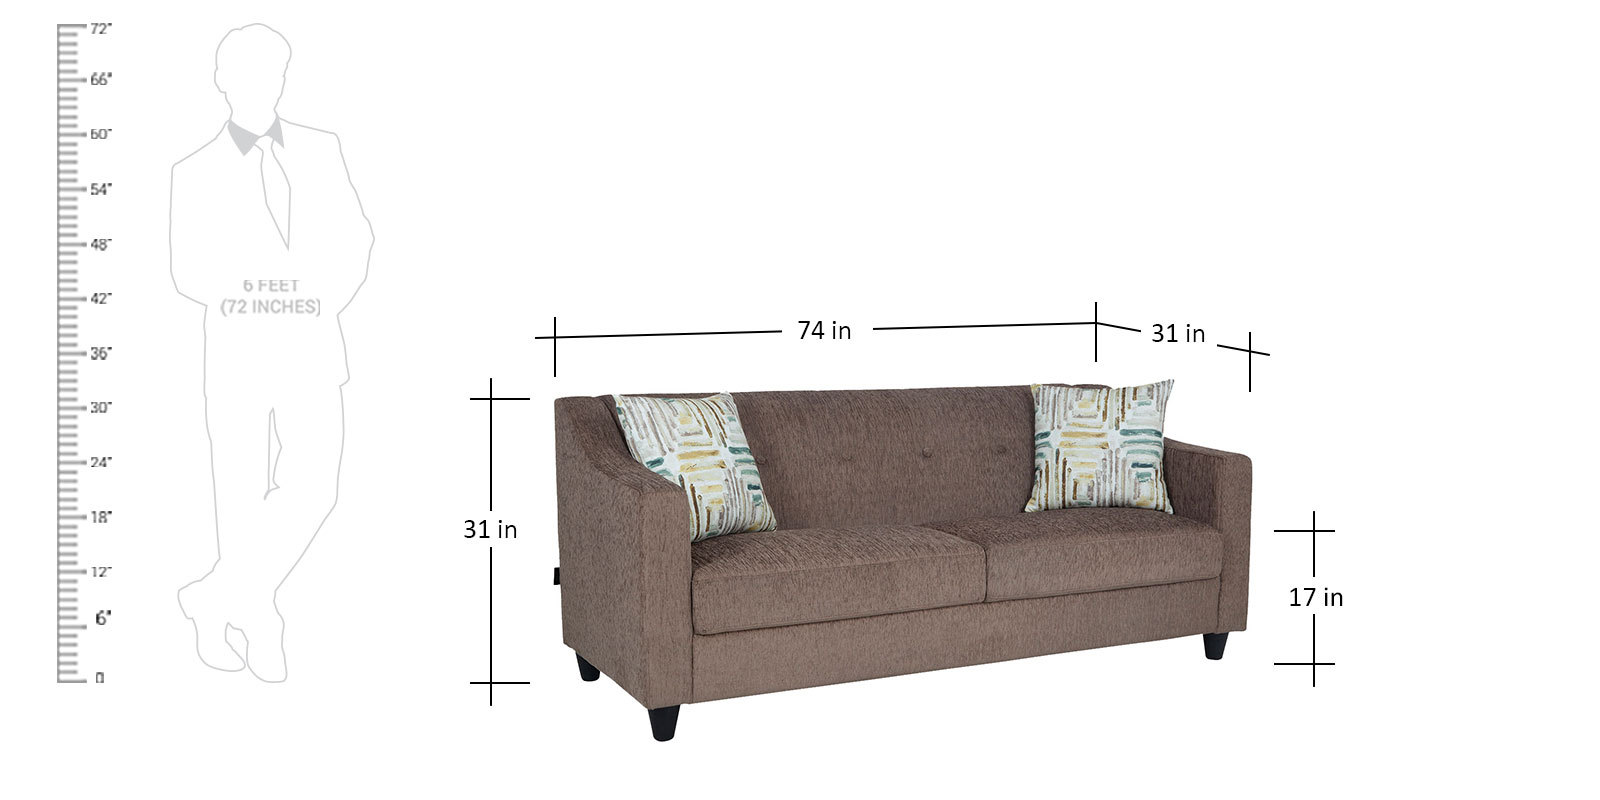Derby Three Seater Sofa in Grey Colour by Urban Living: (536, 379, 1263, 713)
